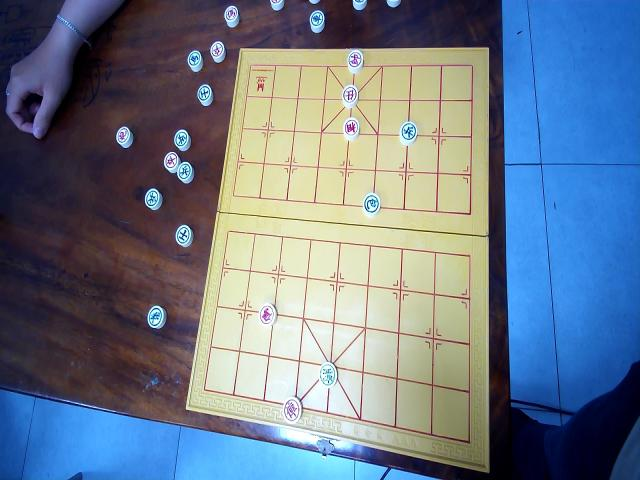piece: (282, 396, 302, 424), (319, 361, 337, 388), (146, 305, 166, 329), (399, 120, 418, 145), (362, 191, 380, 217), (258, 301, 276, 327), (342, 116, 360, 140), (144, 187, 162, 211), (176, 160, 194, 184), (175, 224, 193, 247), (346, 49, 364, 72), (309, 8, 325, 33), (173, 129, 190, 152), (116, 125, 133, 148), (163, 151, 180, 173), (223, 5, 240, 27), (210, 40, 226, 63), (197, 83, 213, 106), (342, 84, 358, 107), (187, 49, 203, 72), (352, 0, 368, 10), (270, 0, 284, 11), (386, 0, 401, 8), (308, 0, 322, 5)
